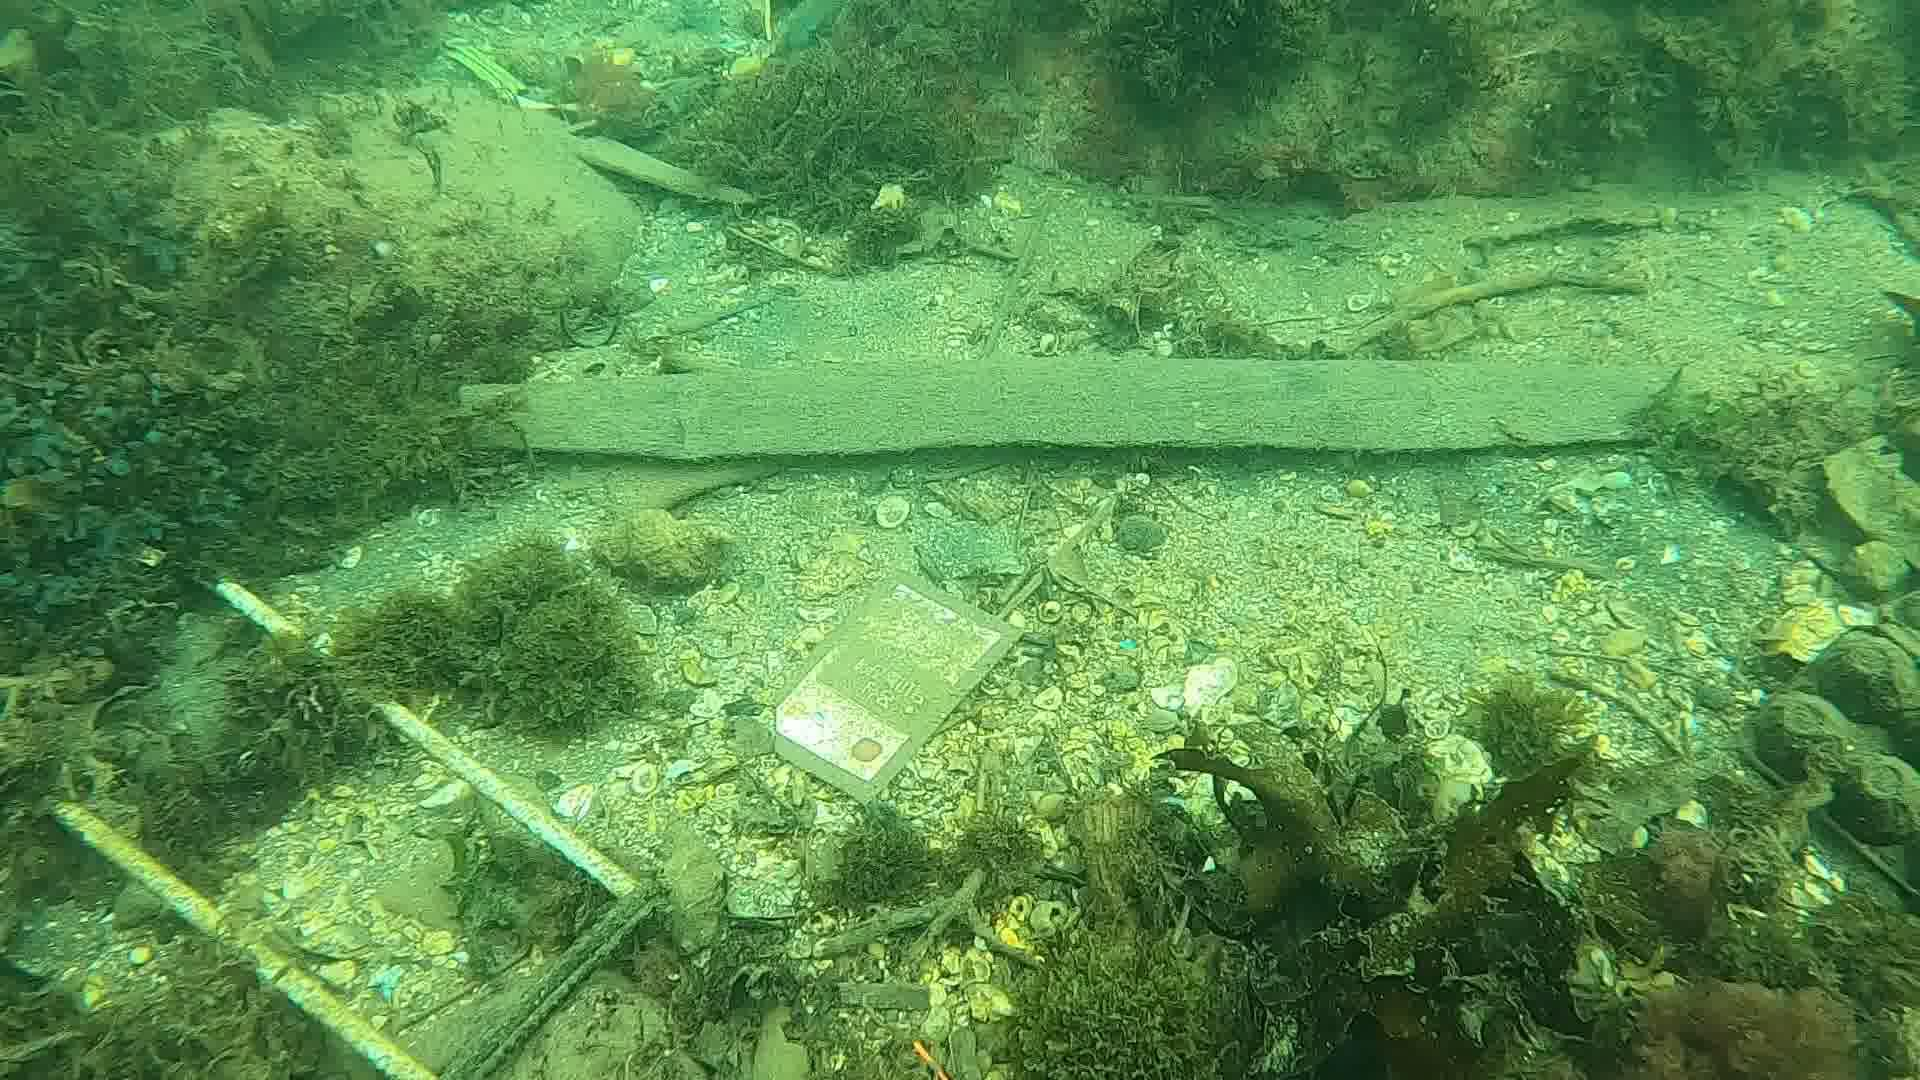wood: (454, 355, 1683, 465)
